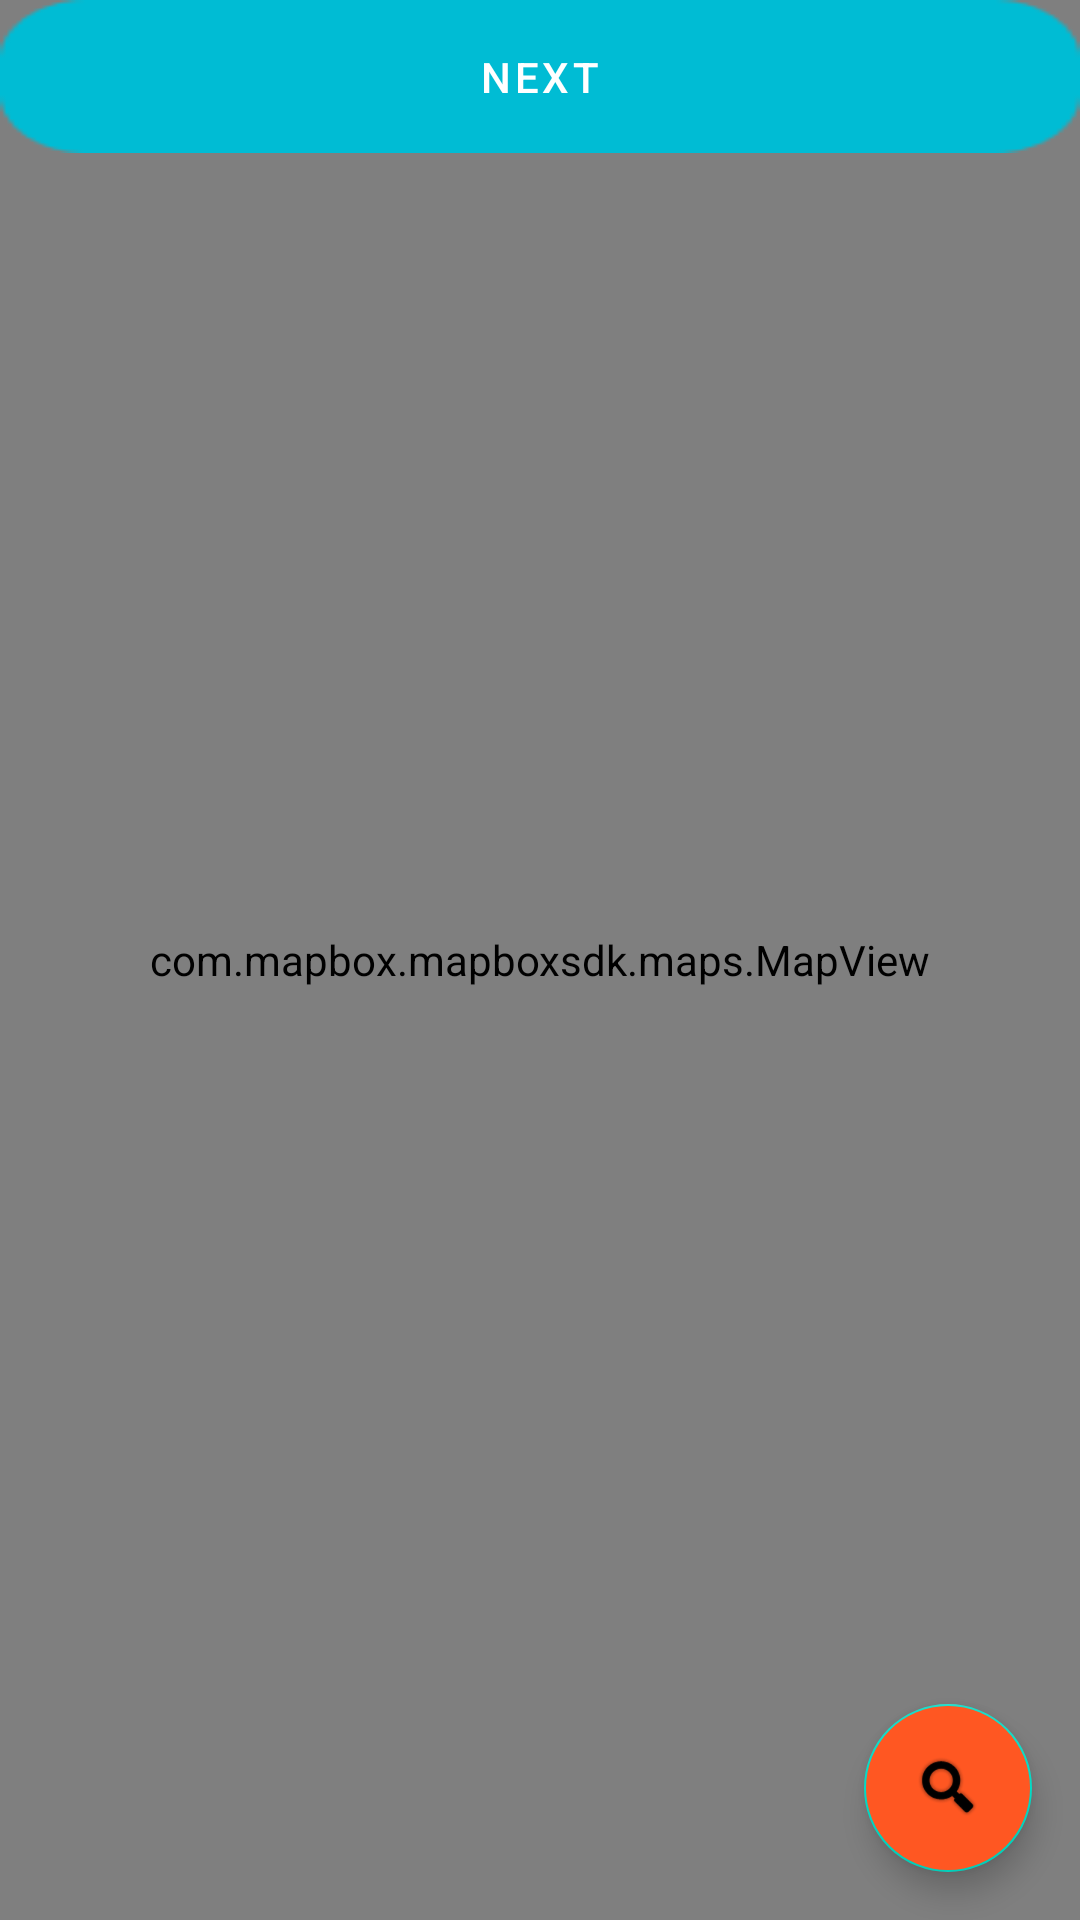

Where icons sit on this 1080px x 1920px app screen, as (x1, y1, x2, y2):
search category: (864, 1704, 1032, 1872)
